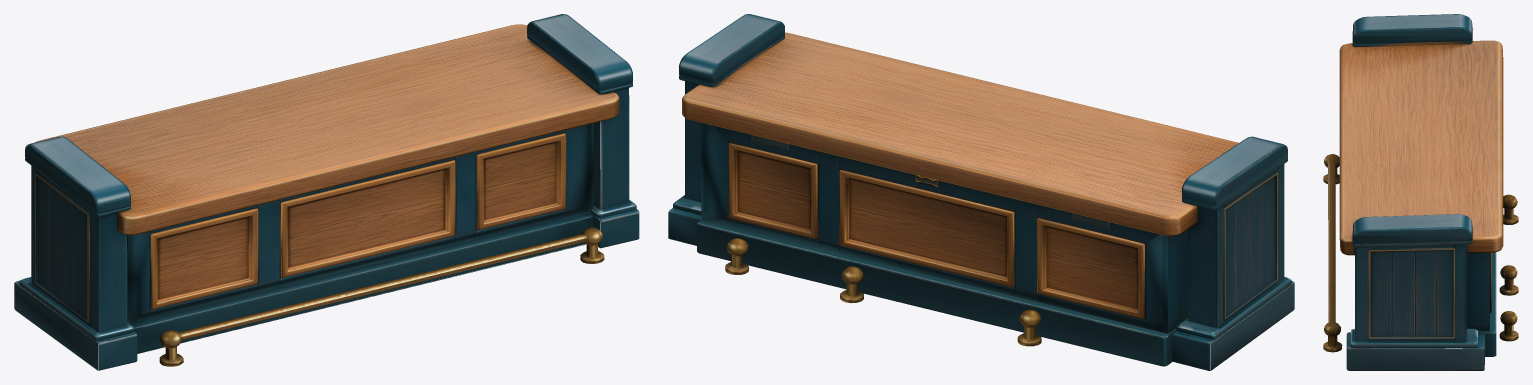
The picture shows the model from 3 angles, left to right: view 1: azimuth 30°, elevation 25°; view 2: azimuth 150°, elevation 25°; view 3: azimuth 270°, elevation 25°; orthographic projection. The views are drawn at different scales.
Parts seen in each view (by area): view 1: b01_Checkout_counter; view 2: b01_Checkout_counter; view 3: b01_Checkout_counter.
Boxes of the visible parts, left/top/right/bottom form: b01_Checkout_counter: left=14, top=14, right=639, bottom=370; b01_Checkout_counter: left=668, top=14, right=1294, bottom=370; b01_Checkout_counter: left=1323, top=14, right=1518, bottom=370.
Size of the model in its own units: 3.4 by 1.05 by 1.3.
Materials: 1 (1 with a texture image).
